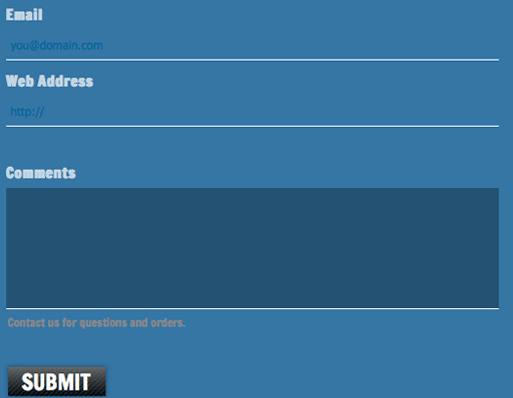field: (3, 185, 504, 311)
field_line: (1, 6, 501, 65), (1, 72, 501, 131)
